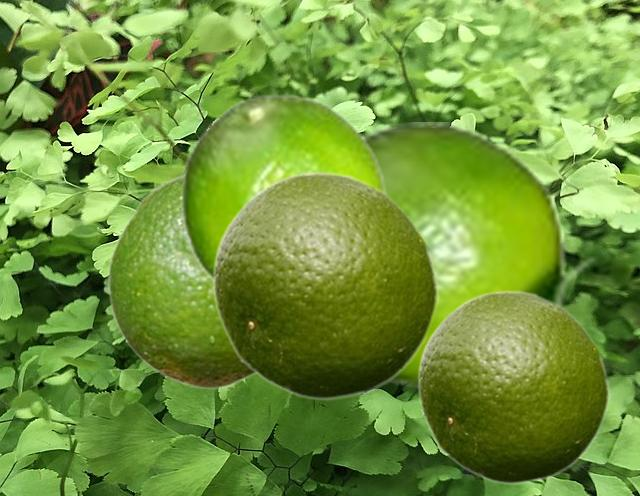calamansi: (359, 122, 599, 387), (212, 169, 438, 400), (180, 92, 387, 285), (417, 288, 609, 484), (107, 174, 255, 389)
